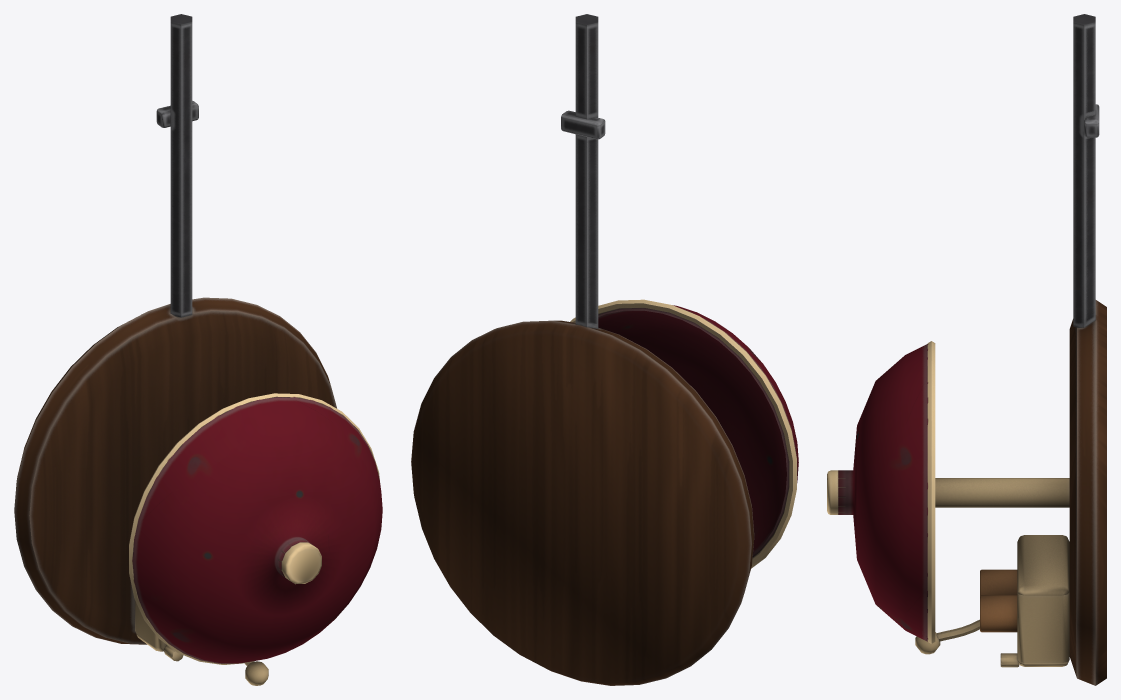
File: WallBell.fbx
3 views of the same model, side by side, from view 1: azimuth 30°, elevation 25°; view 2: azimuth 150°, elevation 25°; view 3: azimuth 270°, elevation 25° (orthographic). The views are drawn at different scales.
Visible parts, largest first — view 1: WallBell; view 2: WallBell; view 3: WallBell.
Boxes of the visible parts, x1,y1,x2,y2 form: WallBell: (14, 14, 382, 685); WallBell: (411, 14, 798, 685); WallBell: (827, 14, 1106, 685).
Size of the model in its own units: 104 by 192 by 75.
